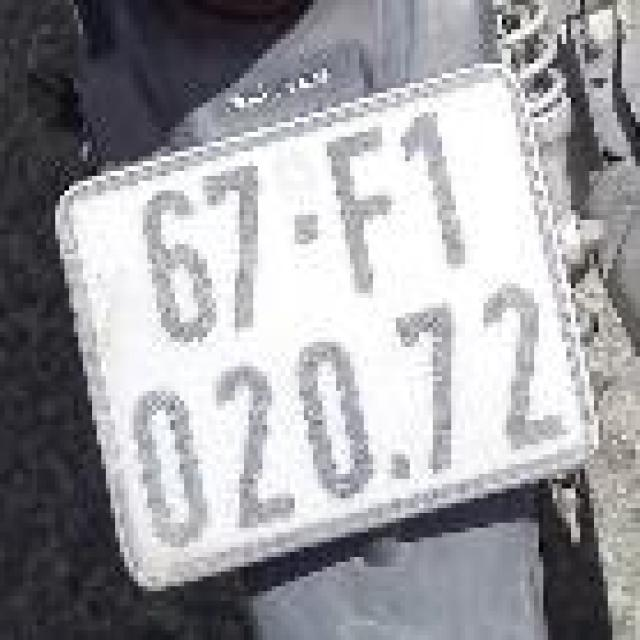0: (282, 317, 391, 515), (117, 362, 228, 554)
1: (394, 90, 490, 286)
2: (194, 341, 315, 545), (471, 268, 579, 467)
6: (127, 168, 233, 361)
7: (379, 271, 496, 491), (192, 146, 304, 338)
F: (311, 104, 430, 322)
